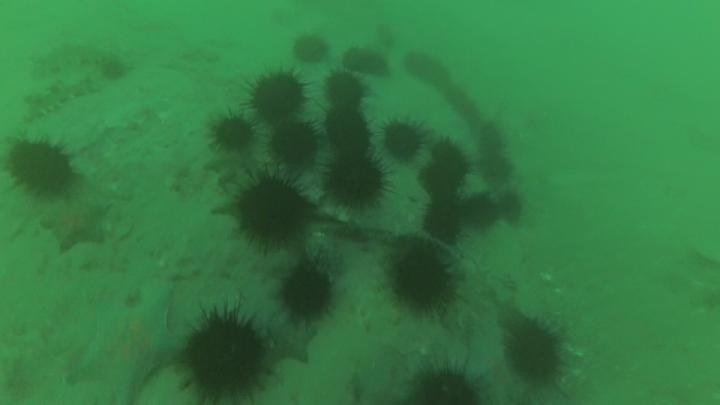echinus: (180, 312, 270, 402), (233, 174, 311, 248), (388, 245, 457, 313), (501, 316, 568, 385), (5, 136, 77, 198), (324, 153, 390, 210), (406, 360, 488, 405), (278, 262, 336, 323), (245, 68, 308, 123), (323, 107, 372, 157), (269, 120, 320, 167), (428, 137, 472, 186), (381, 117, 426, 163), (421, 198, 465, 245), (209, 111, 256, 154), (323, 70, 368, 109), (459, 191, 501, 232), (418, 162, 463, 200), (474, 122, 509, 165), (291, 31, 331, 66), (493, 189, 527, 227), (478, 152, 515, 186), (98, 56, 130, 83), (360, 52, 390, 78), (342, 46, 371, 72), (373, 22, 399, 49)
holothurian: (21, 70, 102, 123), (31, 37, 130, 76)
starfish: (64, 284, 182, 403), (40, 197, 113, 254), (266, 318, 319, 367), (201, 148, 241, 187)
